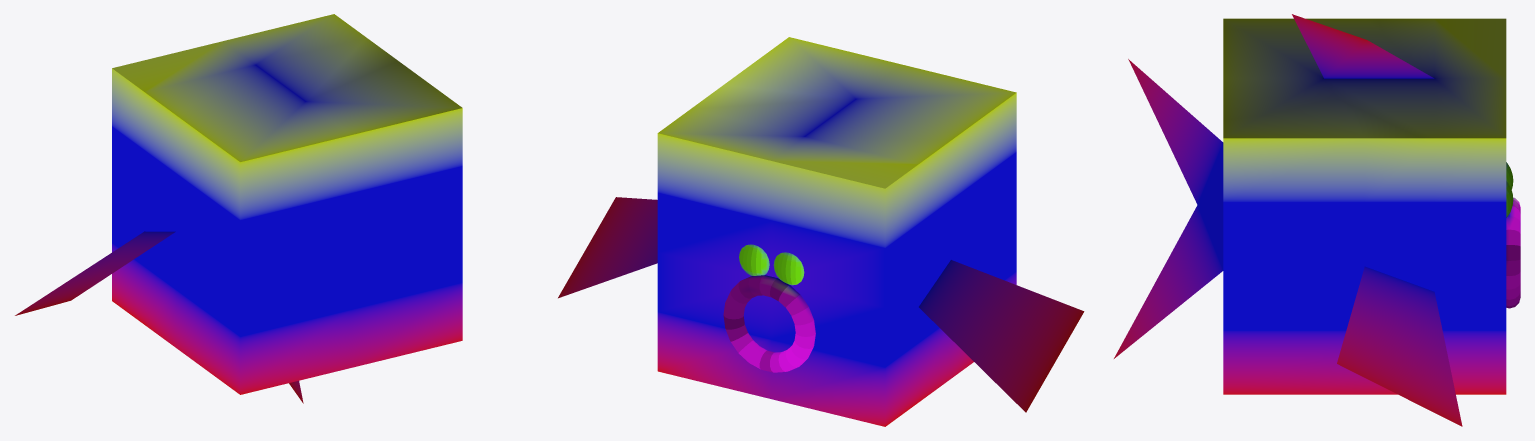
The picture shows the model from 3 angles, left to right: view 1: azimuth 30°, elevation 25°; view 2: azimuth 150°, elevation 25°; view 3: azimuth 270°, elevation 25°; orthographic projection. The views are drawn at different scales.
Parts seen in each view (by area): view 1: Cube; view 2: Cube; view 3: Cube.
Boxes of the visible parts, <box> form: Cube: <box>15,14,462,403</box>; Cube: <box>558,37,1084,426</box>; Cube: <box>1114,14,1520,426</box>.
Size of the model in its own units: 1.72 by 1.3 by 1.2.
